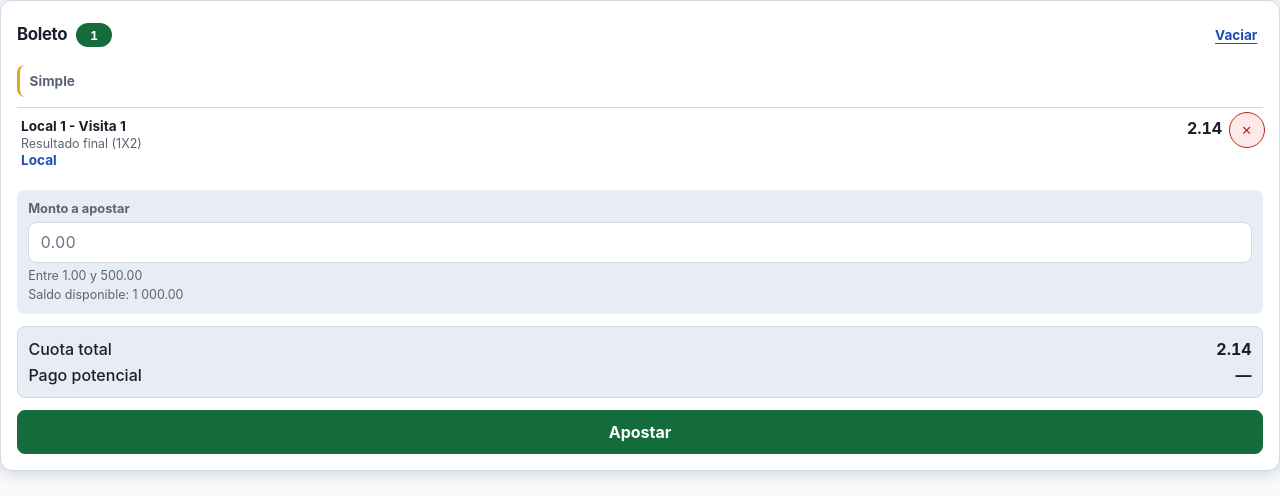
Test: BetSlipComponent › si el servidor devuelve la apuesta incompleta, la confirmación no muestra NaN
The width and height of the screenshot is (1280, 496).
Type "10" into the field with id "stake".
click(640, 242); type("10")  # box [28, 222, 1252, 263]
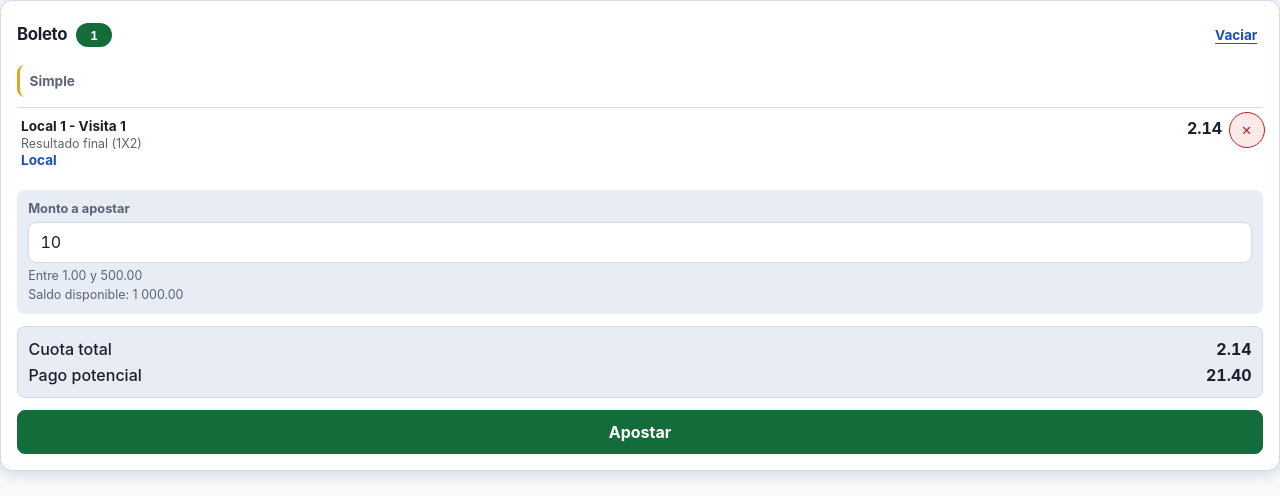
Click the button "Apostar".
click(640, 432)  # box [17, 410, 1263, 454]
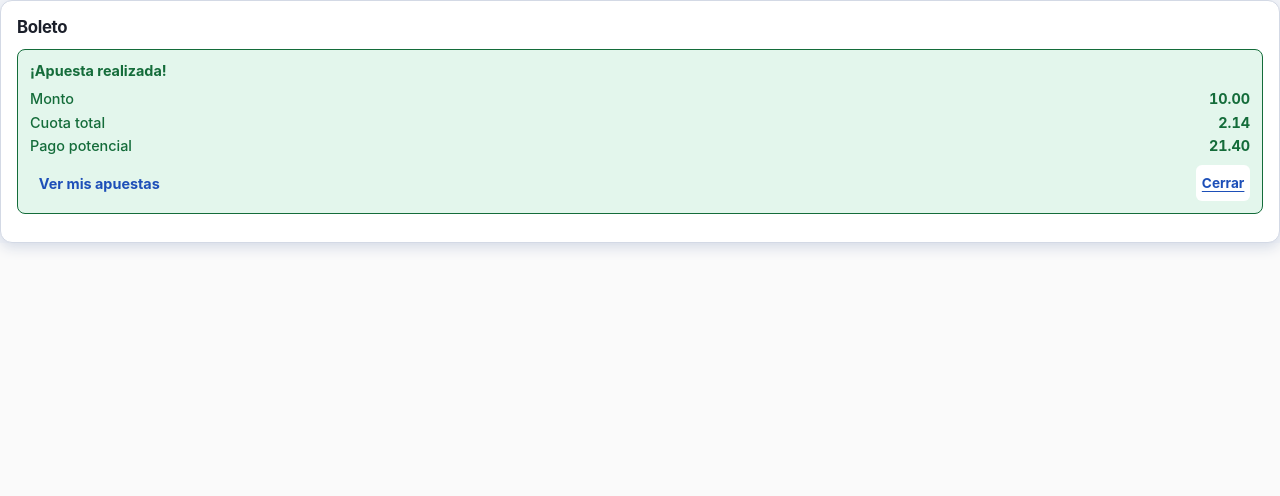
Now the text "Pago potencial 21.40" is shown, box [30, 134, 1250, 157]
Now the text "¡Apuesta realizada!" is shown, box [30, 62, 167, 79]
Now the text "Monto 10.00" is shown, box [30, 87, 1250, 110]
